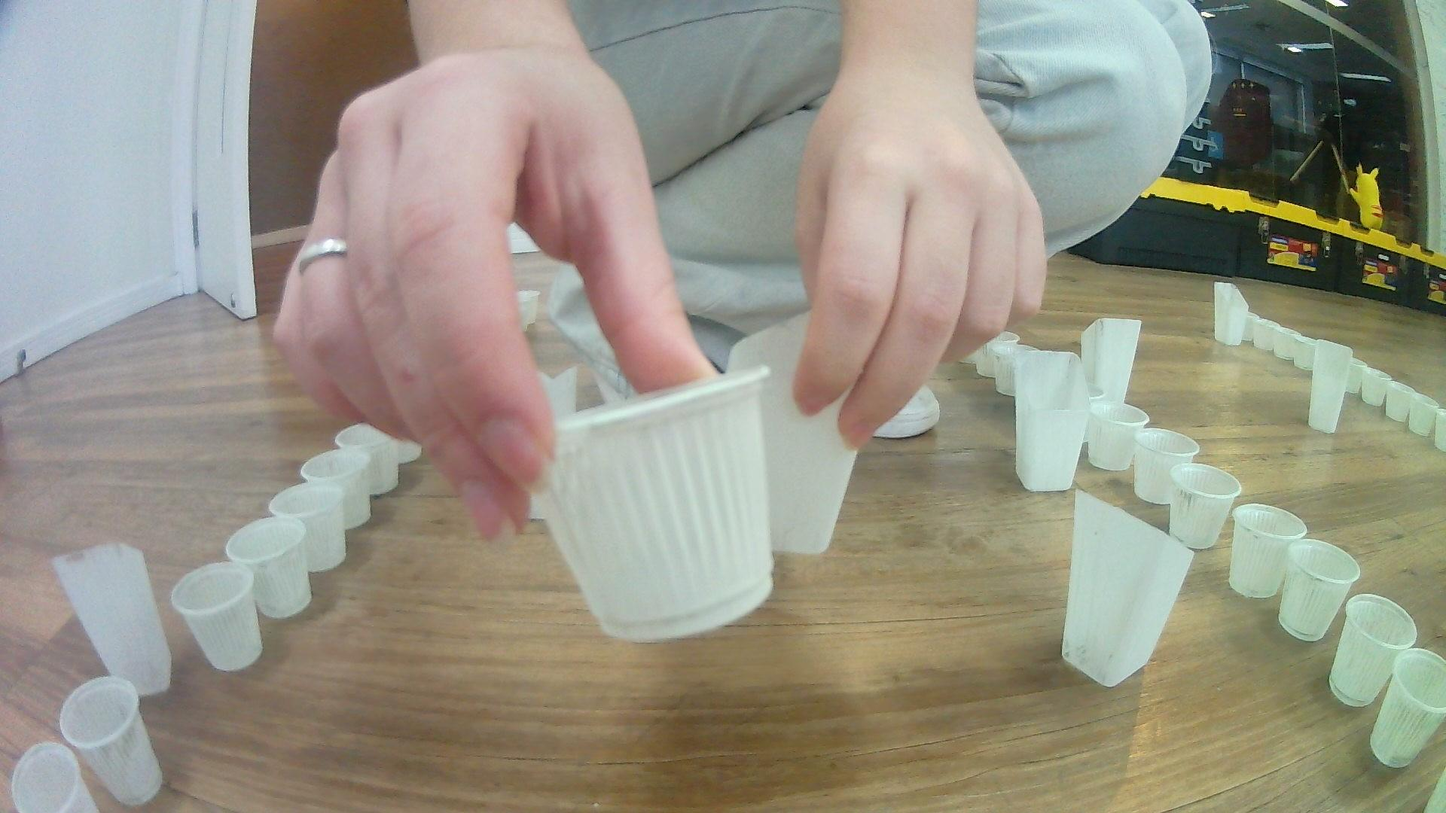erva_daninha: (725, 309, 863, 557), (1062, 487, 1194, 688), (50, 540, 172, 698), (1014, 352, 1094, 493), (1080, 318, 1142, 406), (1308, 339, 1353, 435), (1213, 281, 1252, 346), (538, 367, 579, 419)
planta: (533, 365, 779, 644), (57, 675, 163, 806), (1327, 592, 1418, 708), (171, 562, 264, 672), (1368, 647, 1446, 770), (225, 516, 313, 620), (1278, 537, 1360, 642), (1228, 501, 1308, 599), (269, 482, 346, 573), (1167, 462, 1243, 550), (11, 741, 101, 813), (300, 448, 372, 531), (1132, 427, 1201, 507), (334, 423, 401, 495), (1084, 403, 1151, 471), (995, 348, 1028, 396), (975, 339, 1011, 379), (1409, 394, 1439, 438), (1386, 383, 1417, 423), (1362, 370, 1393, 407), (1273, 324, 1300, 361), (981, 330, 1020, 355), (517, 289, 540, 331), (1252, 318, 1280, 352), (387, 437, 423, 463), (1240, 311, 1266, 347), (1294, 335, 1316, 371), (1347, 358, 1368, 394), (1435, 407, 1446, 452), (962, 351, 978, 364)
